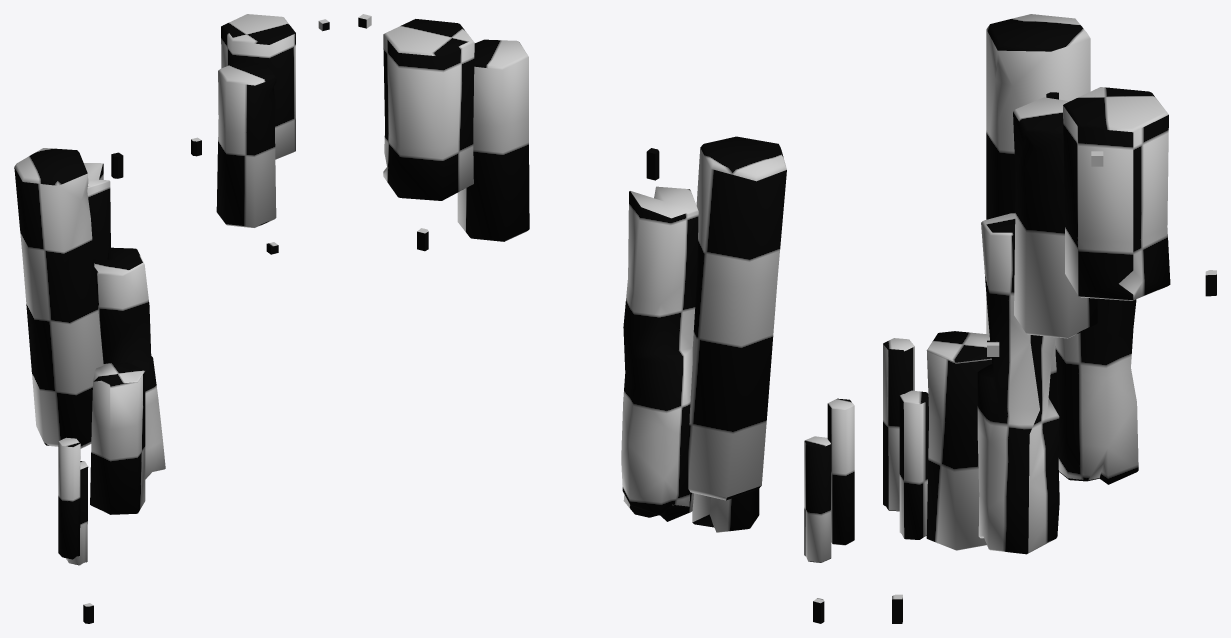
File: streuner_asteroid03.obj
The picture shows the model from 3 angles, left to right: view 1: azimuth 30°, elevation 25°; view 2: azimuth 150°, elevation 25°; view 3: azimuth 270°, elevation 25°; orthographic projection. The views are drawn at different scales.
Visible parts, largest first — view 1: lowpoly; view 2: lowpoly; view 3: lowpoly.
Part boxes in pixels (x1,y1,x2,y2): lowpoly: (14, 14, 329, 623); lowpoly: (358, 14, 854, 623); lowpoly: (883, 14, 1216, 623).
Bounding box in the file's own units: 695 × 943 × 416.
1 material, 1 textured.
